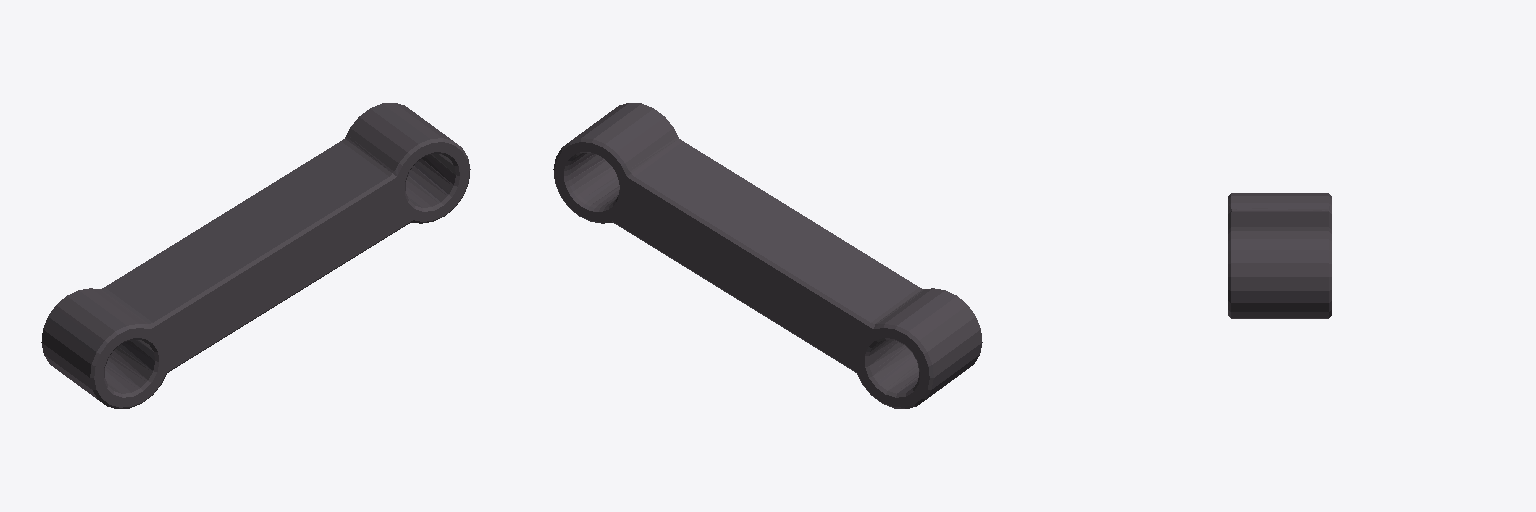
The model's file is vertical_translation_lin.OBJ.
The picture shows the model from 3 angles: view 1: azimuth 30°, elevation 25°; view 2: azimuth 150°, elevation 25°; view 3: azimuth 270°, elevation 25°; orthographic projection.
Parts seen in each view (by area): view 1: /ambf/env/neuro_robot/vertical_translation_lin_vertical_translat; view 2: /ambf/env/neuro_robot/vertical_translation_lin_vertical_translat; view 3: /ambf/env/neuro_robot/vertical_translation_lin_vertical_translat.
Boxes of the visible parts, x1,y1,x2,y2 form: /ambf/env/neuro_robot/vertical_translation_lin_vertical_translat: [41, 103, 470, 408]; /ambf/env/neuro_robot/vertical_translation_lin_vertical_translat: [553, 103, 982, 408]; /ambf/env/neuro_robot/vertical_translation_lin_vertical_translat: [1228, 193, 1331, 318].
Size of the model in its own units: 0.0715 by 0.0352 by 0.0168.